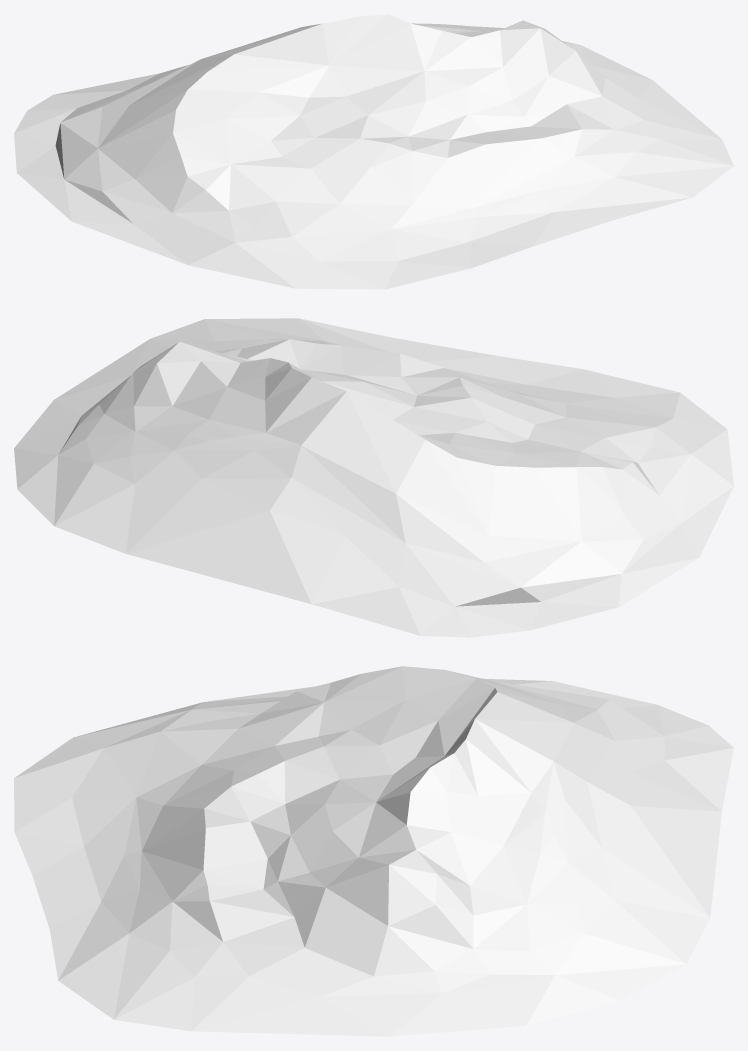
The model's file is snow_sand_002.fbx.
3 views of the same model, one above another, from view 1: azimuth 30°, elevation 25°; view 2: azimuth 150°, elevation 25°; view 3: azimuth 270°, elevation 25° (orthographic). The views are drawn at different scales.
Parts seen in each view (by area): view 1: snow_sand_002; view 2: snow_sand_002; view 3: snow_sand_002.
Boxes of the visible parts, x1,y1,x2,y2 form: snow_sand_002: (14, 14, 733, 289); snow_sand_002: (14, 318, 733, 637); snow_sand_002: (14, 666, 733, 1036).
Bounding box in the file's own units: 3131 × 2639 × 546.
